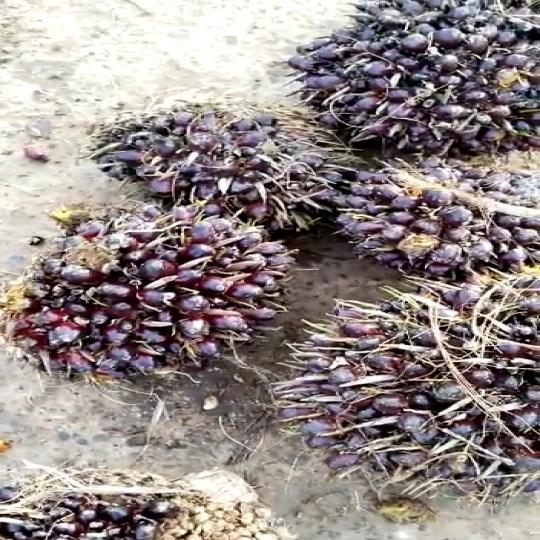mentah: (308, 278, 540, 496), (33, 210, 293, 382), (81, 86, 358, 238), (295, 0, 540, 156), (335, 157, 540, 266), (7, 464, 158, 540)
